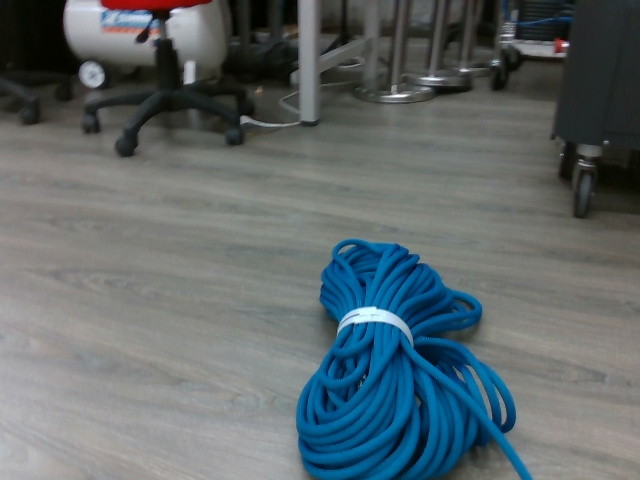rope: (292, 236, 539, 480)
